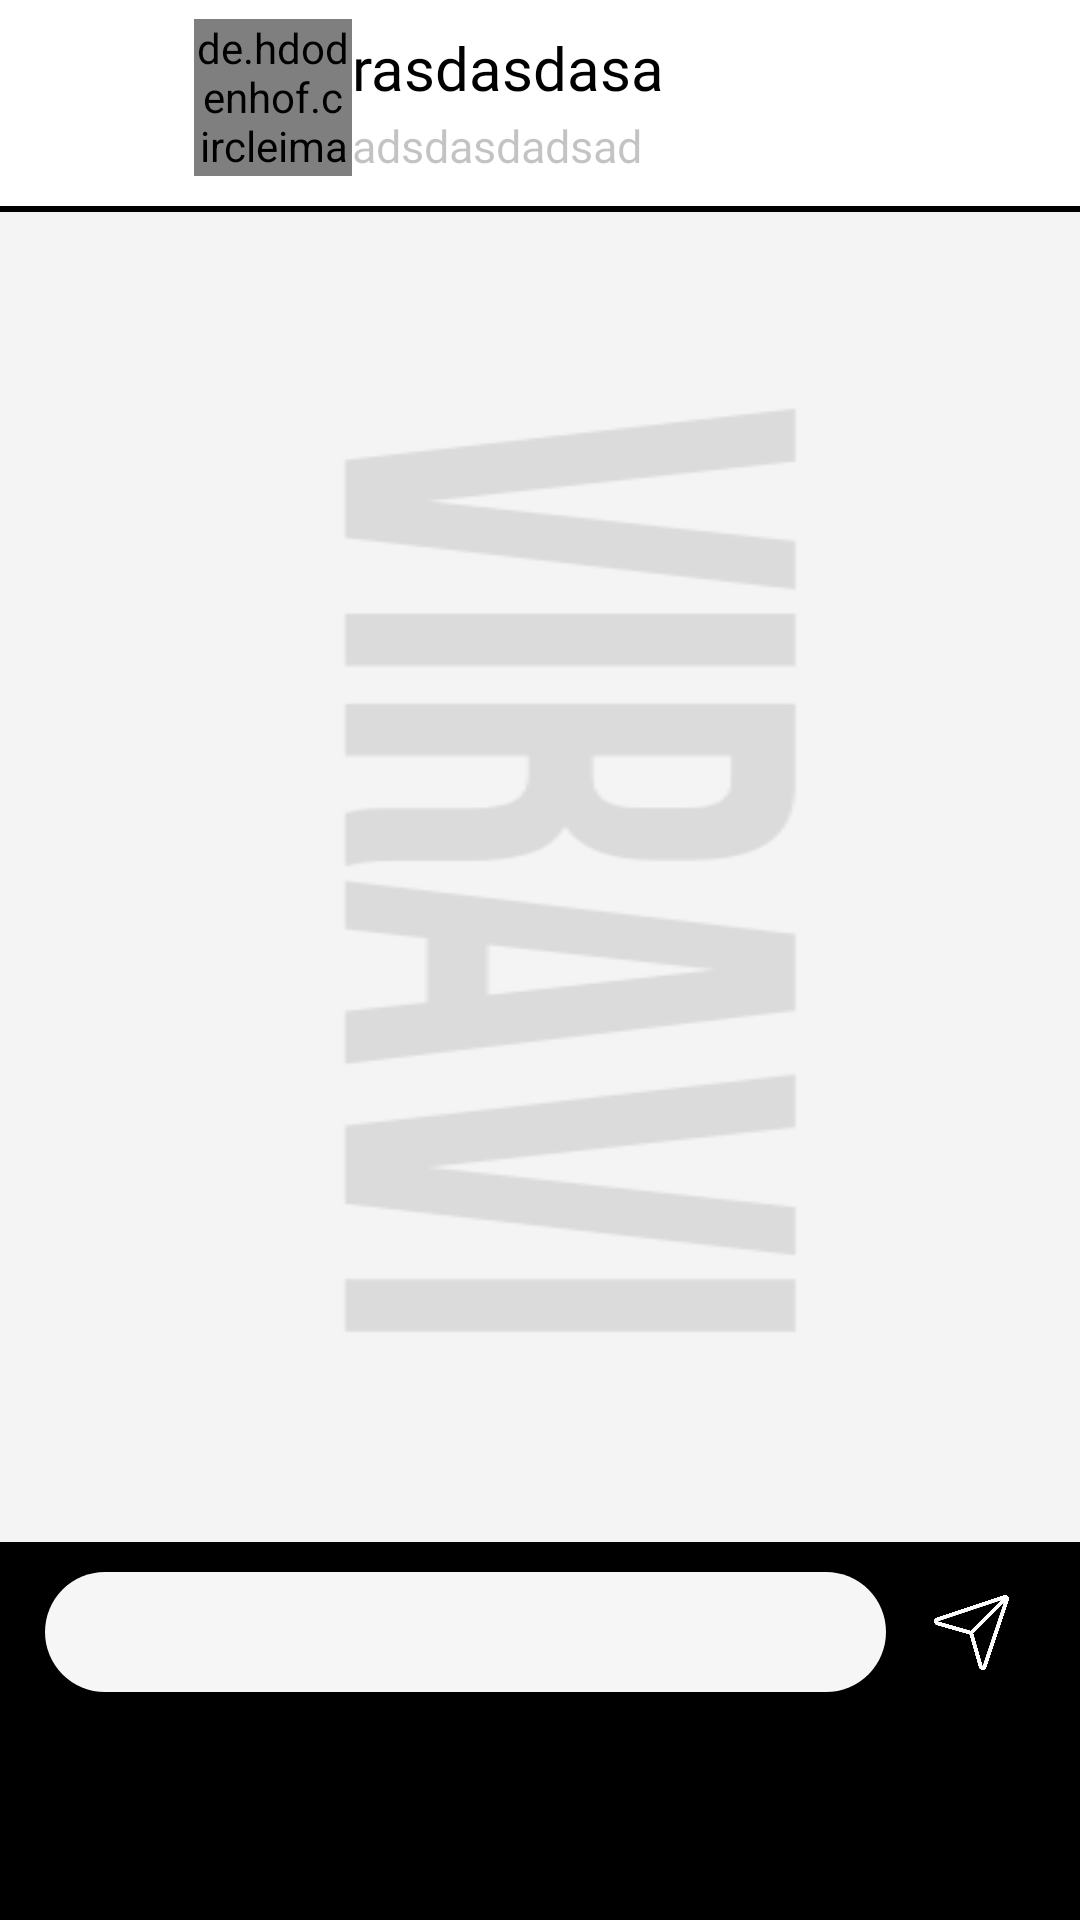

Point at icon controls on the screen. Image size 1080w x 1920h, points as (x,y).
enviar: (971,1632)
